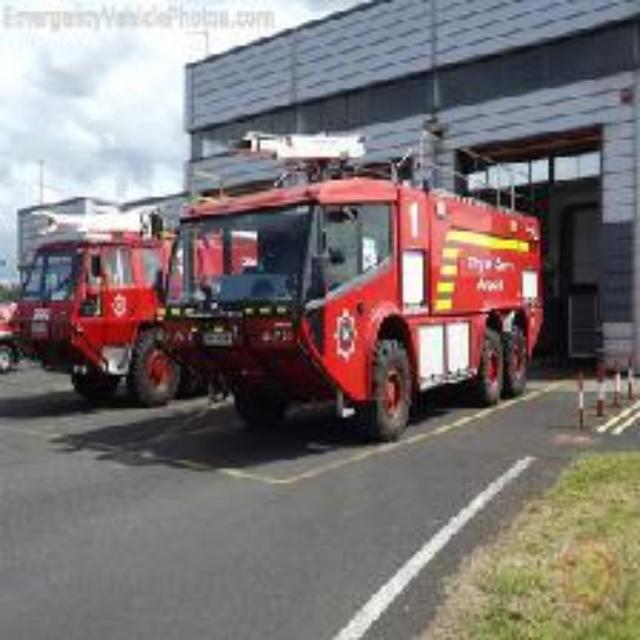emergency: (136, 172, 546, 442)
